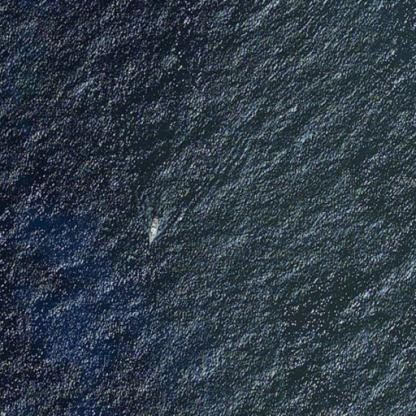ship: (142, 208, 165, 249)
